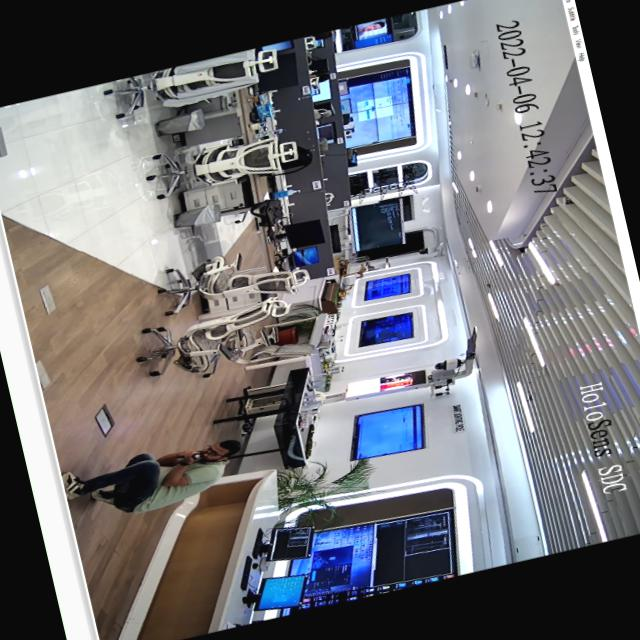long weapon: (168, 442, 220, 470)
